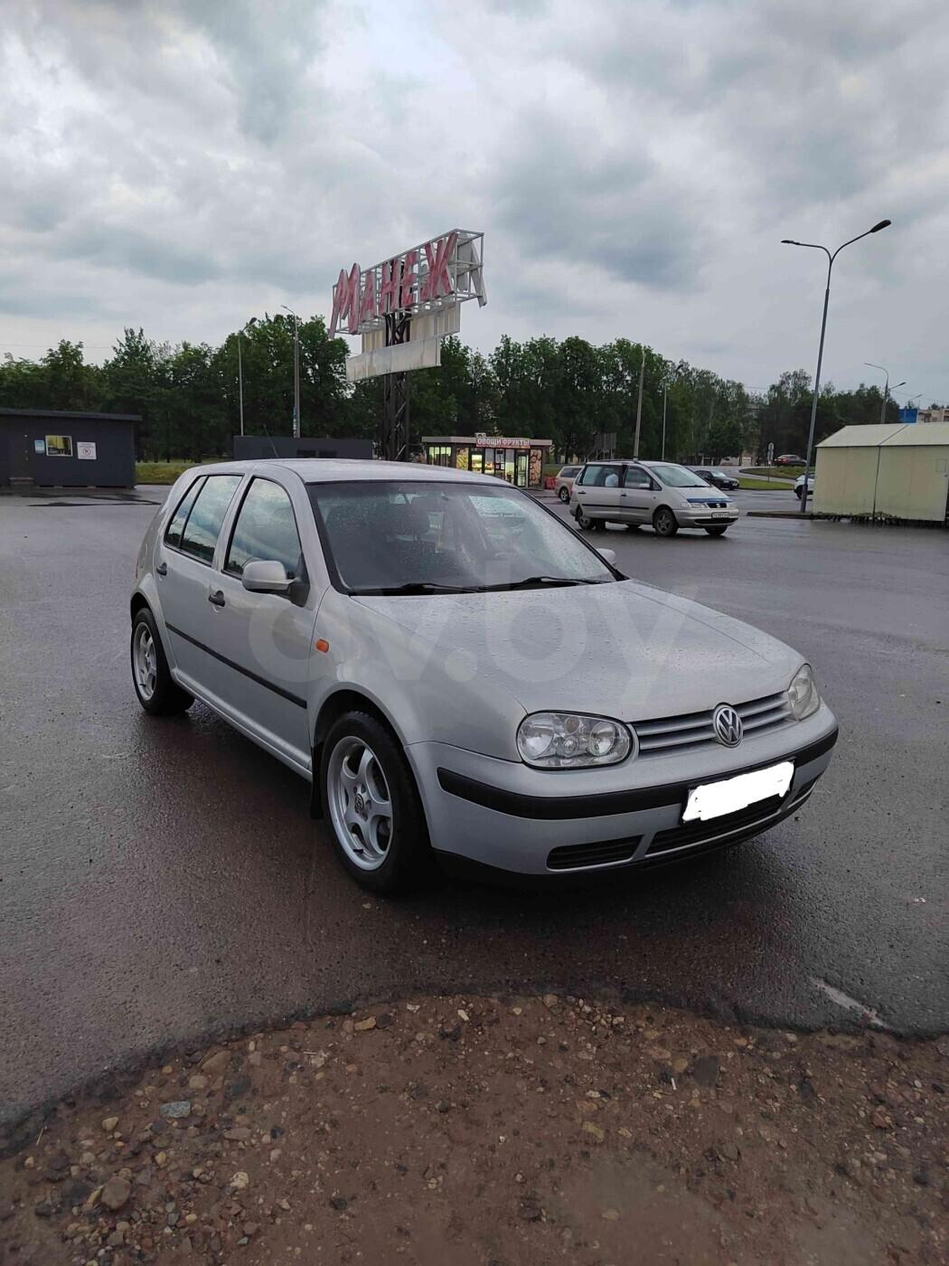Golf_1997-2006: (122, 453, 831, 904)
